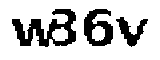3: (54, 2, 80, 47)
6: (83, 6, 113, 49)
v: (115, 14, 149, 48)
w: (6, 16, 55, 48)
